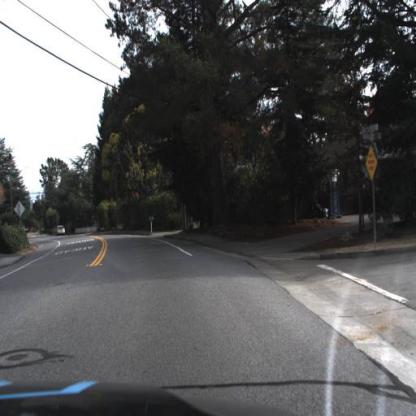car: (51, 219, 68, 241), (56, 224, 68, 240)
